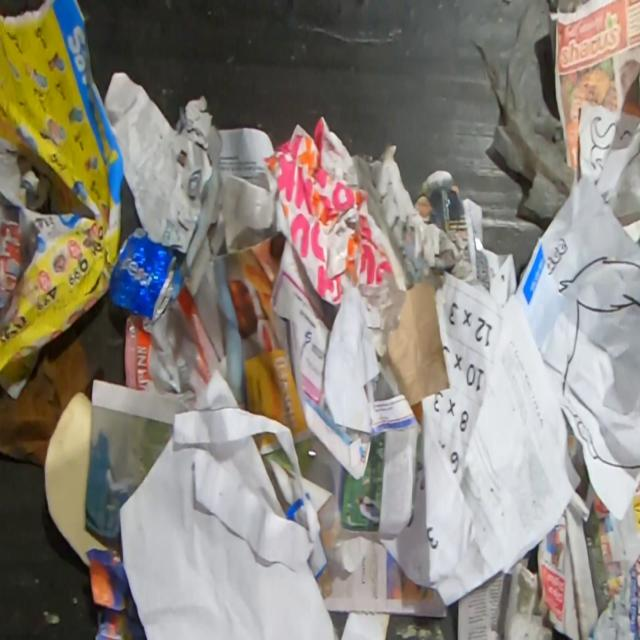cardboard: (0, 326, 93, 467)
metal: (110, 227, 177, 322)
soft_plastic: (469, 0, 576, 221), (123, 289, 220, 395)
